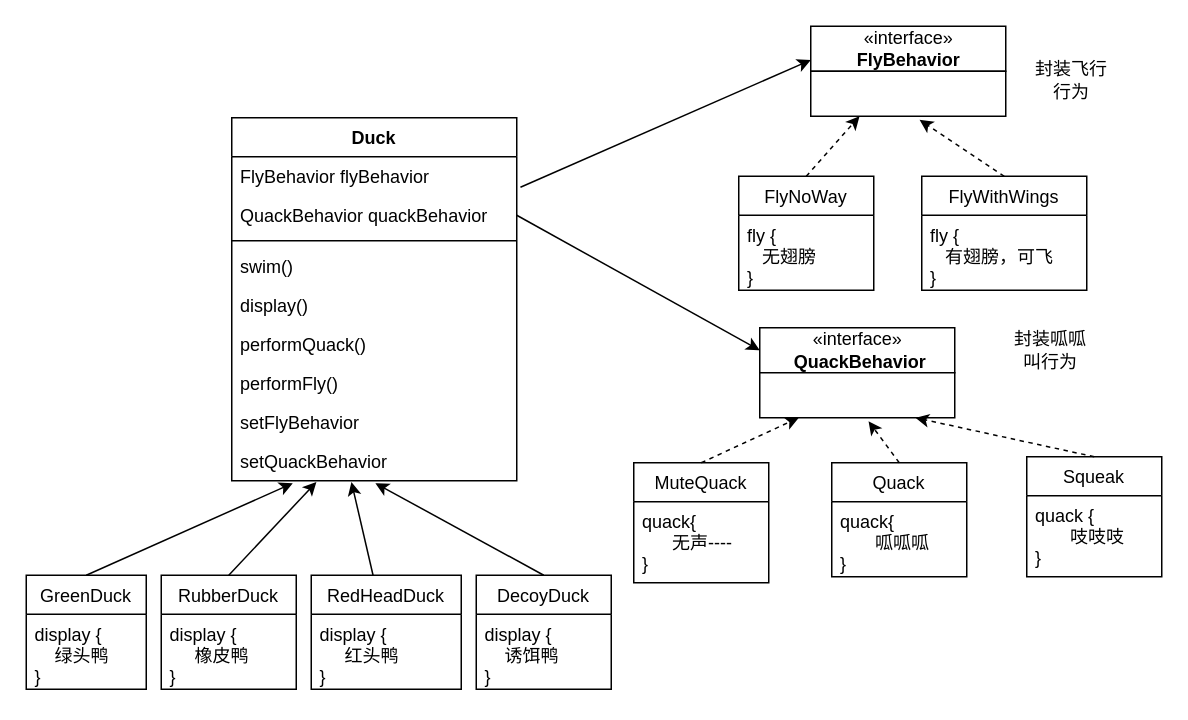
Image size: 1188x720. Some labels were removed from this diagram. Each missing label, with the centre of its shape:
"fly()" goes at point 907,93.
"quack()" goes at point 856,394.
